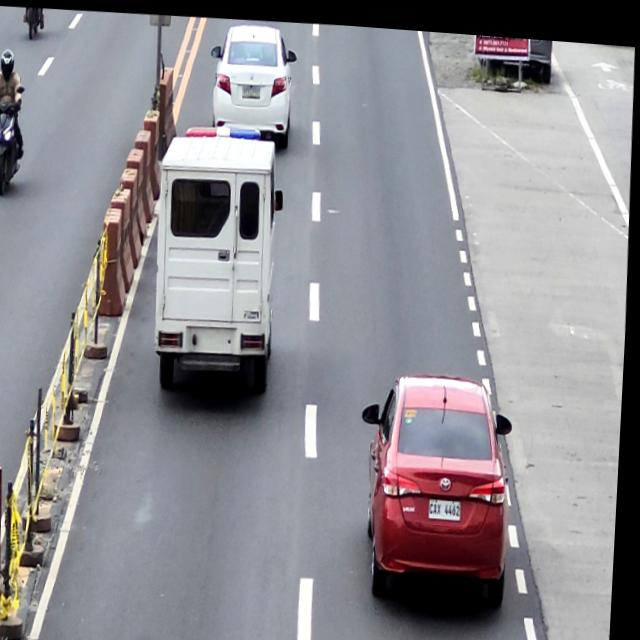Car: (151, 119, 293, 404), (359, 366, 521, 607), (207, 16, 299, 149)
License-Plate: (433, 490, 466, 516), (241, 78, 262, 95)
